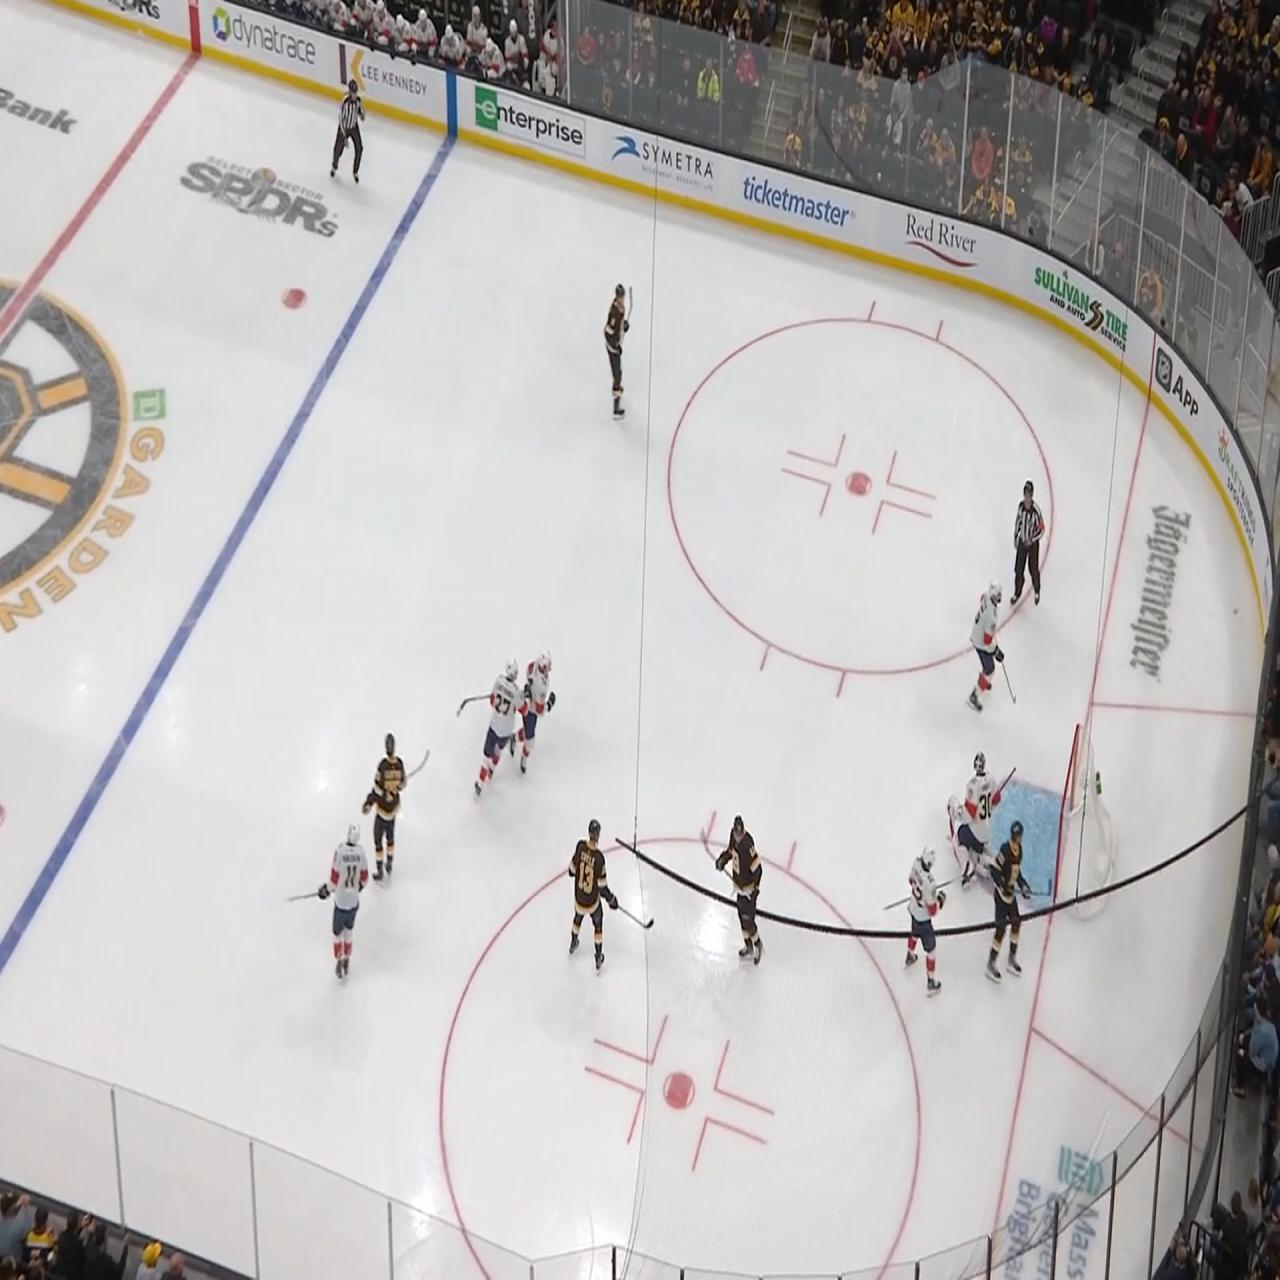Ad: (178, 144, 335, 250), (999, 1136, 1112, 1279), (1126, 496, 1194, 682), (613, 116, 716, 209), (1032, 258, 1131, 352), (741, 169, 859, 246), (475, 79, 587, 159), (211, 0, 315, 83), (1217, 417, 1265, 561), (339, 40, 427, 101), (901, 206, 979, 275), (1152, 336, 1203, 423)
